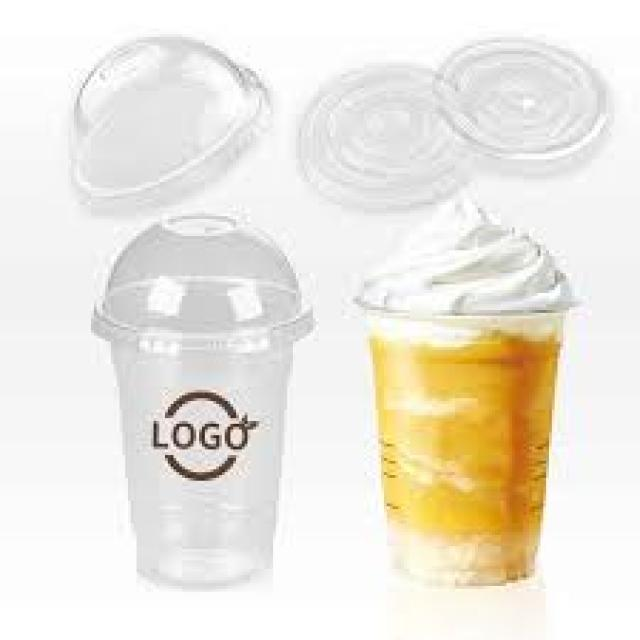bottle: (92, 275, 321, 586), (369, 314, 564, 584)
